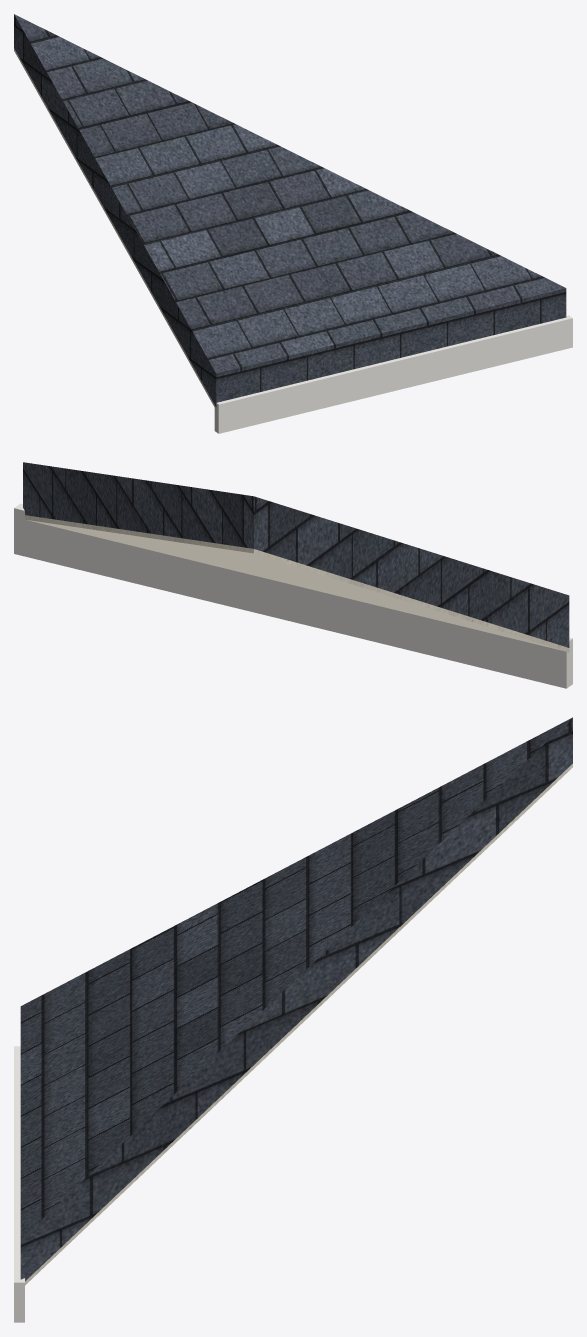
File: roof_main_7.glb
The picture shows the model from 3 angles, top to bottom: view 1: azimuth 30°, elevation 25°; view 2: azimuth 150°, elevation 25°; view 3: azimuth 270°, elevation 25°; orthographic projection. The views are drawn at different scales.
Parts seen in each view (by area): view 1: roof_main_7_shingle, roof_main_7_trim, roof_main_7_plaster; view 2: roof_main_7_shingle, roof_main_7_trim, roof_main_7_plaster; view 3: roof_main_7_shingle, roof_main_7_plaster, roof_main_7_trim.
Boxes of the visible parts, <box> form: roof_main_7_shingle: <box>14,14,566,406</box>; roof_main_7_trim: <box>214,315,572,433</box>; roof_main_7_plaster: <box>14,48,216,409</box>; roof_main_7_shingle: <box>23,462,569,647</box>; roof_main_7_trim: <box>14,503,572,688</box>; roof_main_7_plaster: <box>25,515,569,652</box>; roof_main_7_shingle: <box>20,717,572,1281</box>; roof_main_7_plaster: <box>25,764,572,1285</box>; roof_main_7_trim: <box>14,1046,24,1322</box>.
Size of the model in its own units: 2.53 by 1.84 by 2.53.
Materials: 3 (2 with a texture image).
